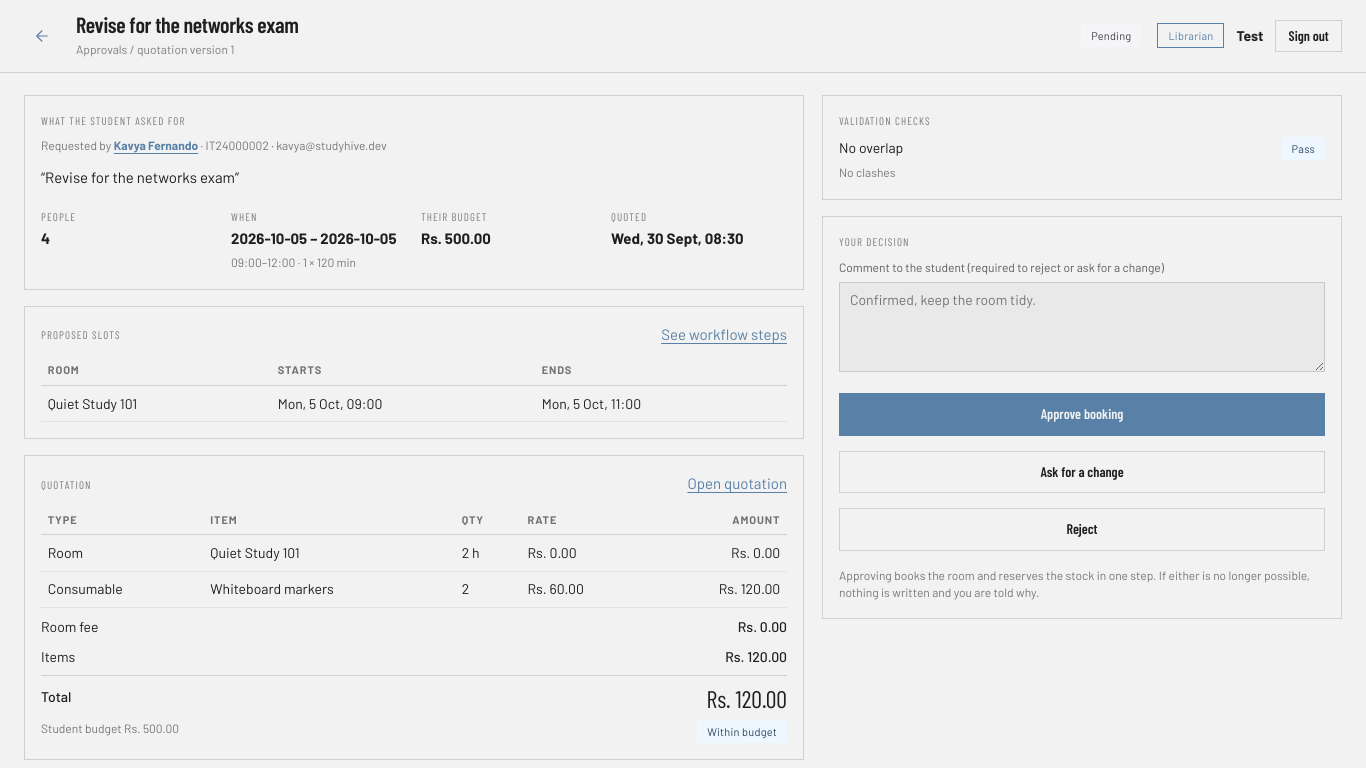
Scenario: W-04 review proposal › Ask for a change can be backed out of without sending anything (CW-13)
Type "Fewer items" into the text box named "Comment to the student". click: (1082, 327)
box: [839,282,1325,372]
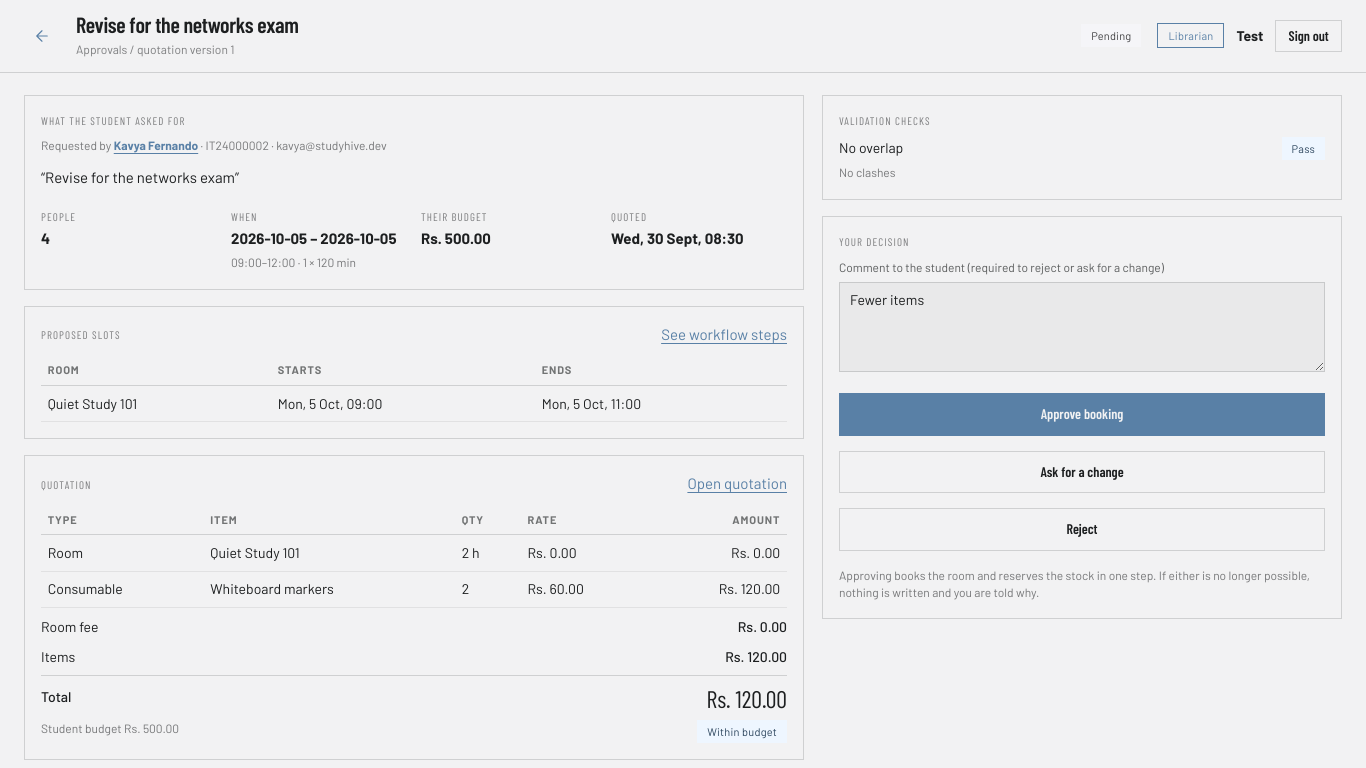
Click the button "Ask for a change". click: click(1082, 472)
box: [839,450,1325,493]
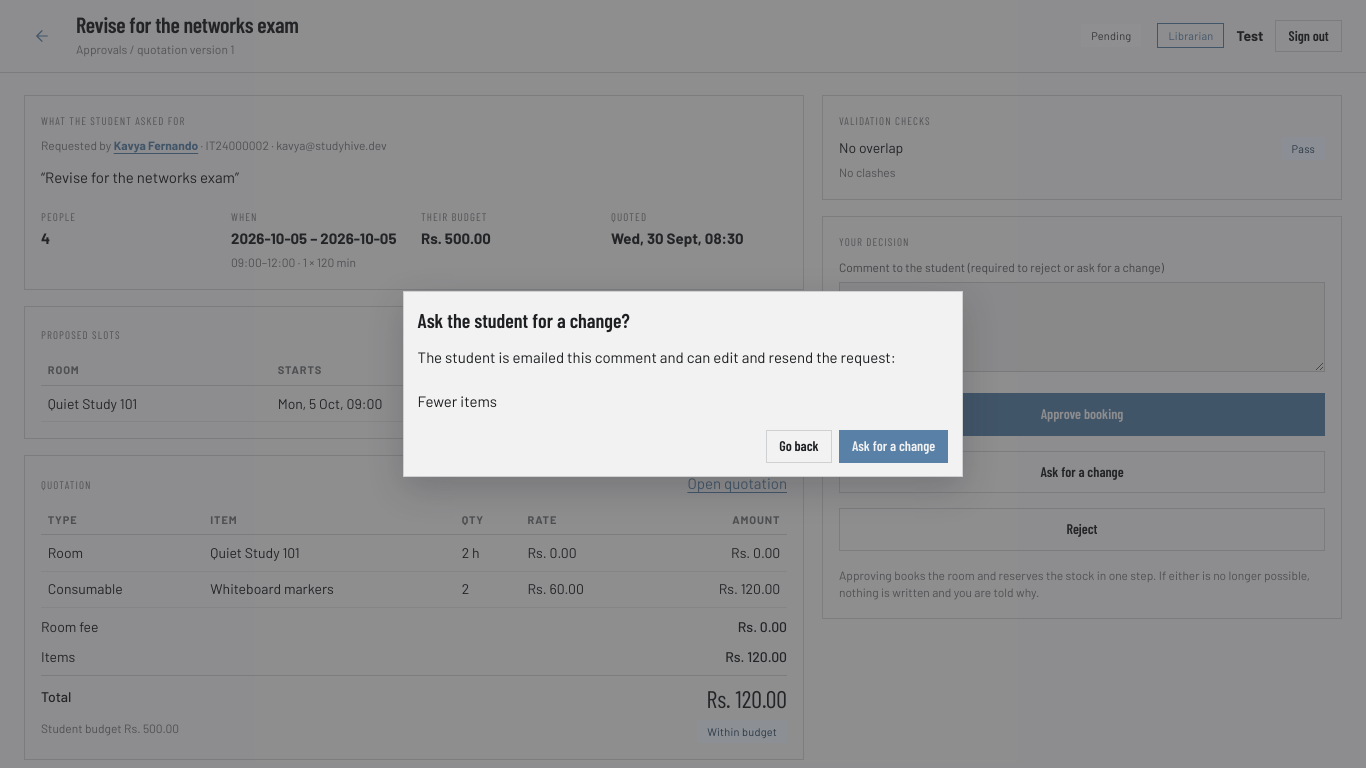
Click the button "Go back". click: click(799, 446)
box: [766,430,832,463]
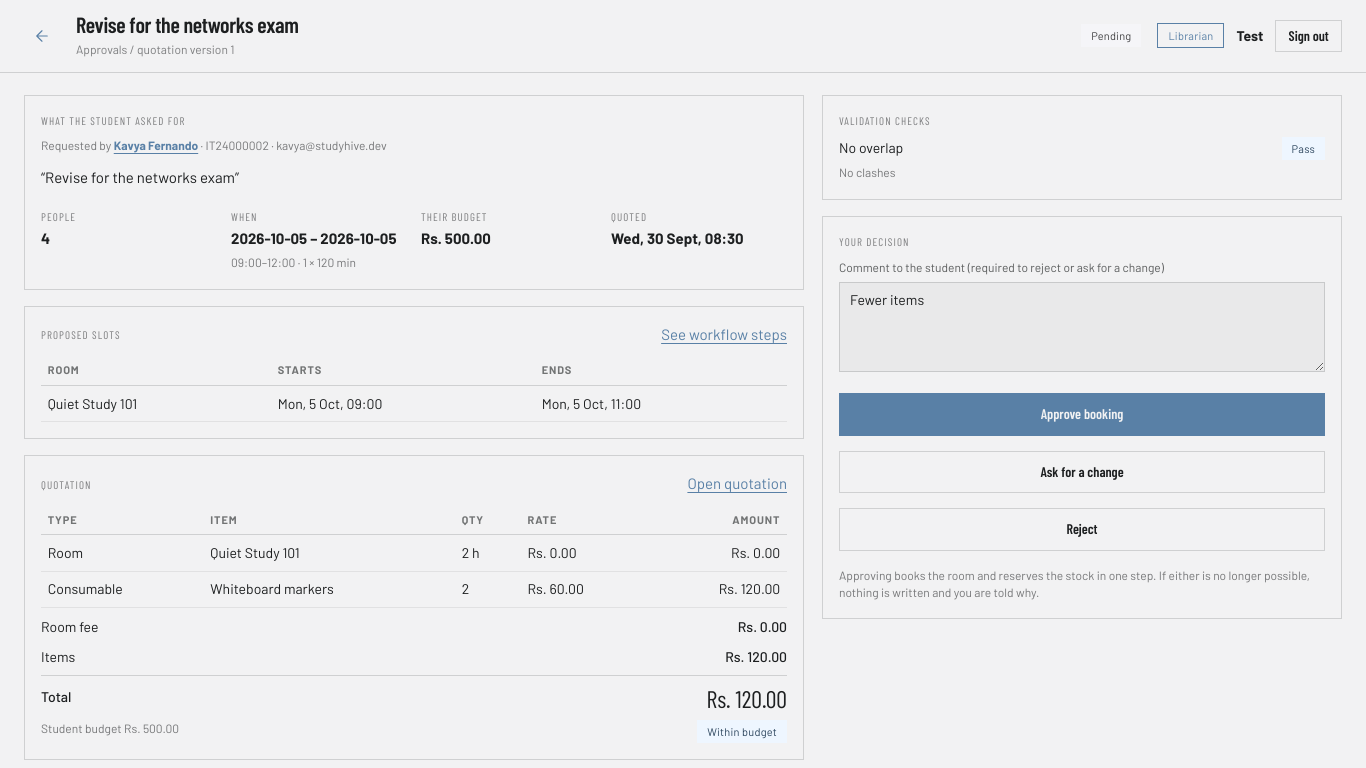
expect the dialog is gone: met
